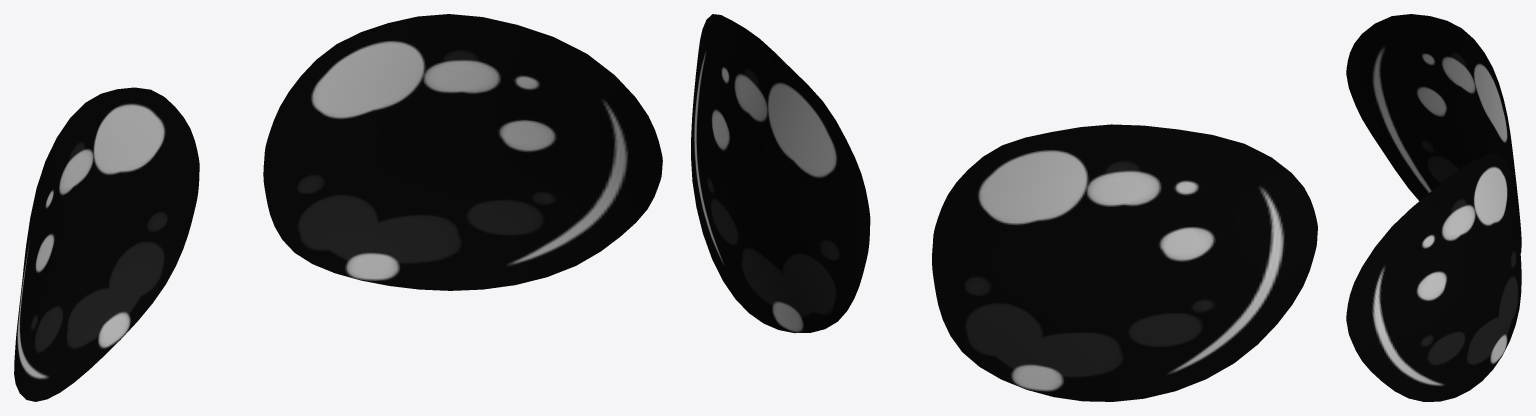
Rendered from 28-Cute-Big-Eyes-Face-Customizable-eyes.glb.
3 views of the same model, side by side, from view 1: azimuth 30°, elevation 25°; view 2: azimuth 150°, elevation 25°; view 3: azimuth 270°, elevation 25° (orthographic). The views are drawn at different scales.
Visible parts, largest first — view 1: 28-Cute-Big-Eyes-Face-Customizable-eyes; view 2: 28-Cute-Big-Eyes-Face-Customizable-eyes; view 3: 28-Cute-Big-Eyes-Face-Customizable-eyes.
Boxes of the visible parts, x1,y1,x2,y2 form: 28-Cute-Big-Eyes-Face-Customizable-eyes: (14,14,662,401); 28-Cute-Big-Eyes-Face-Customizable-eyes: (691,14,1317,401); 28-Cute-Big-Eyes-Face-Customizable-eyes: (1346,14,1521,401).
Size of the model in its own units: 1.07 by 0.4471 by 0.3217.
2 materials, 2 textured.
